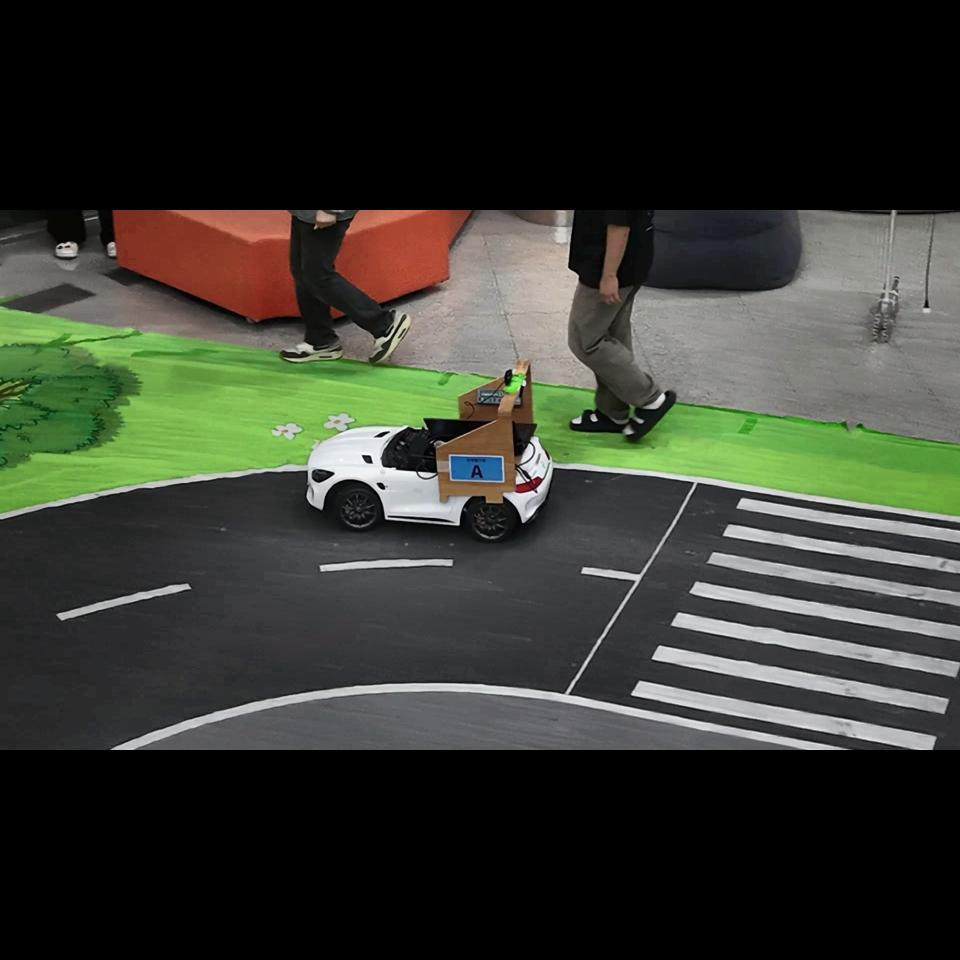broken_line: (56, 583, 192, 621), (320, 559, 453, 572), (581, 567, 640, 581)
crosswalk: (631, 499, 960, 750)
